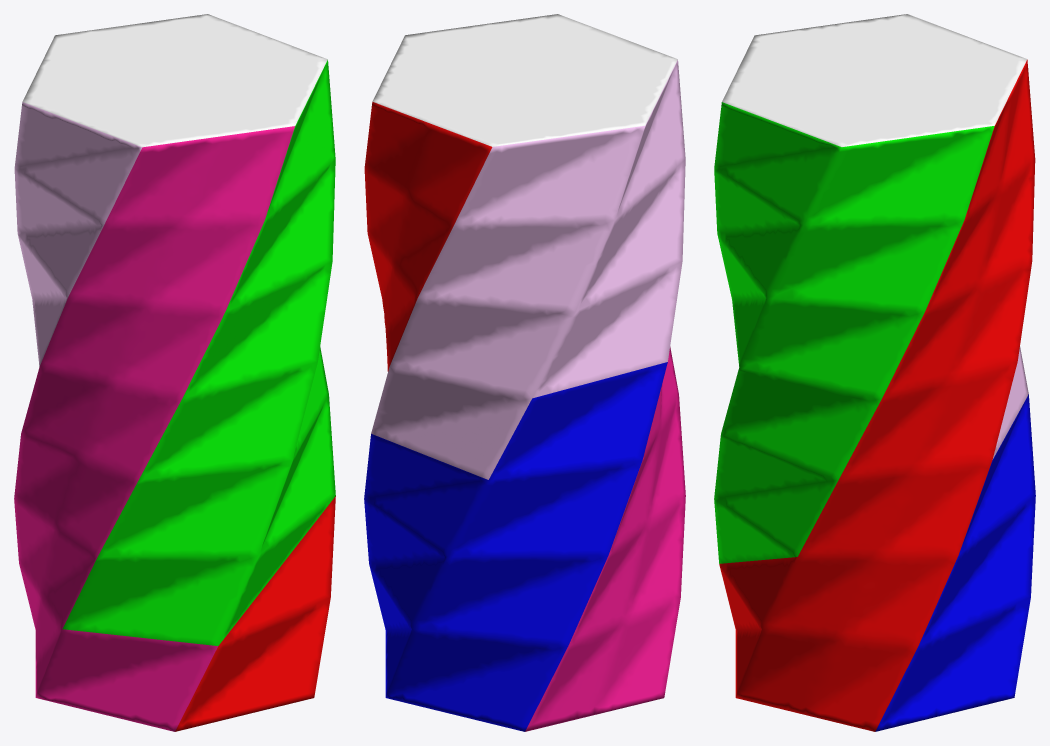
The model's file is model_28807_segmented.obj.
3 renders of one model, left to right at view 1: azimuth 30°, elevation 25°; view 2: azimuth 150°, elevation 25°; view 3: azimuth 270°, elevation 25°, orthographic.
Bounding box in the file's own units: 13.88 × 27.78 × 13.88.
